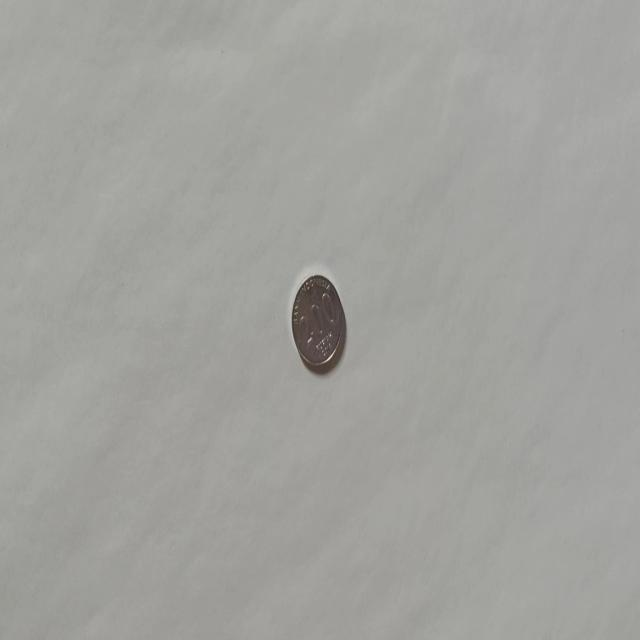dua ratus rupiah: (290, 272, 346, 372)
